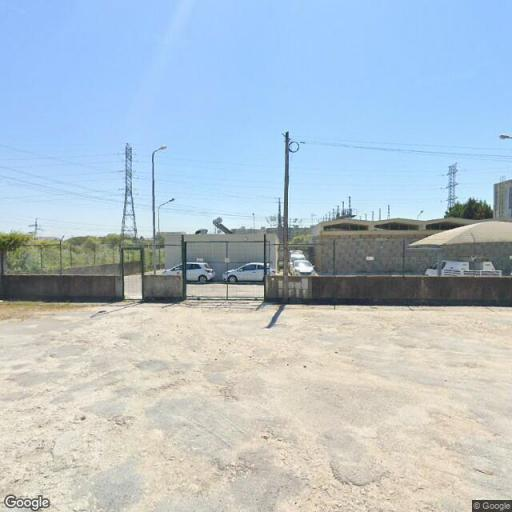ss_3: (116, 142, 146, 240), (440, 160, 464, 213)
